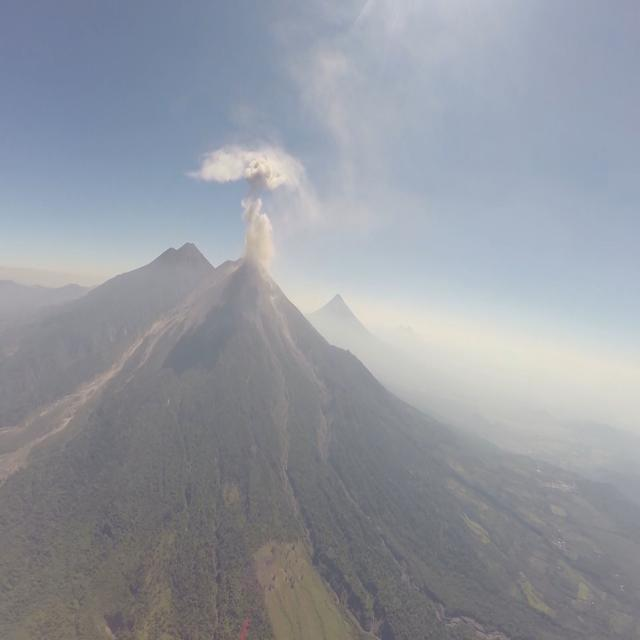Plume: (210, 150, 304, 192), (242, 192, 278, 268), (239, 156, 295, 190)
Summit: (221, 250, 279, 288)
